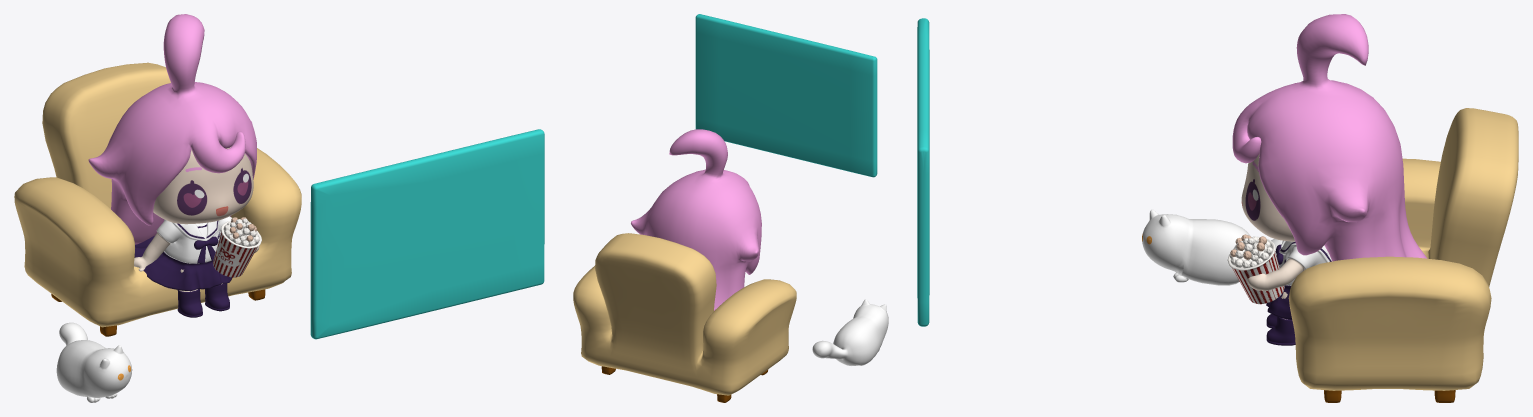
File: MAO_JT_59766.FBX
3 renders of one model, left to right at view 1: azimuth 30°, elevation 25°; view 2: azimuth 150°, elevation 25°; view 3: azimuth 270°, elevation 25°, orthographic. The views are drawn at different scales.
Parts seen in each view (by area): view 1: Box020, Box021, 444444, Box004, 789, Cylinder001; view 2: Box021, Box020, 444444, 789; view 3: Box021, 444444, 789, Box020, Box004, Cylinder001.
Boxes of the visible parts, left/top/right/bottom form: Box020: left=310, top=129, right=544, bottom=339; Box021: left=14, top=62, right=301, bottom=336; 444444: left=88, top=14, right=256, bottom=244; Box004: left=134, top=216, right=259, bottom=317; 789: left=56, top=322, right=132, bottom=402; Cylinder001: left=213, top=217, right=261, bottom=277; Box021: left=573, top=233, right=796, bottom=402; Box020: left=695, top=14, right=877, bottom=177; 444444: left=631, top=129, right=761, bottom=310; 789: left=812, top=299, right=888, bottom=365; Box021: left=1288, top=108, right=1518, bottom=402; 444444: left=1232, top=14, right=1427, bottom=261; 789: left=1142, top=209, right=1282, bottom=285; Box020: left=917, top=18, right=929, bottom=326; Box004: left=1247, top=240, right=1332, bottom=345; Cylinder001: left=1227, top=234, right=1284, bottom=304.
Bounding box in the file's own units: 40.02 × 32.18 × 50.37.
7 materials, 5 textured.
